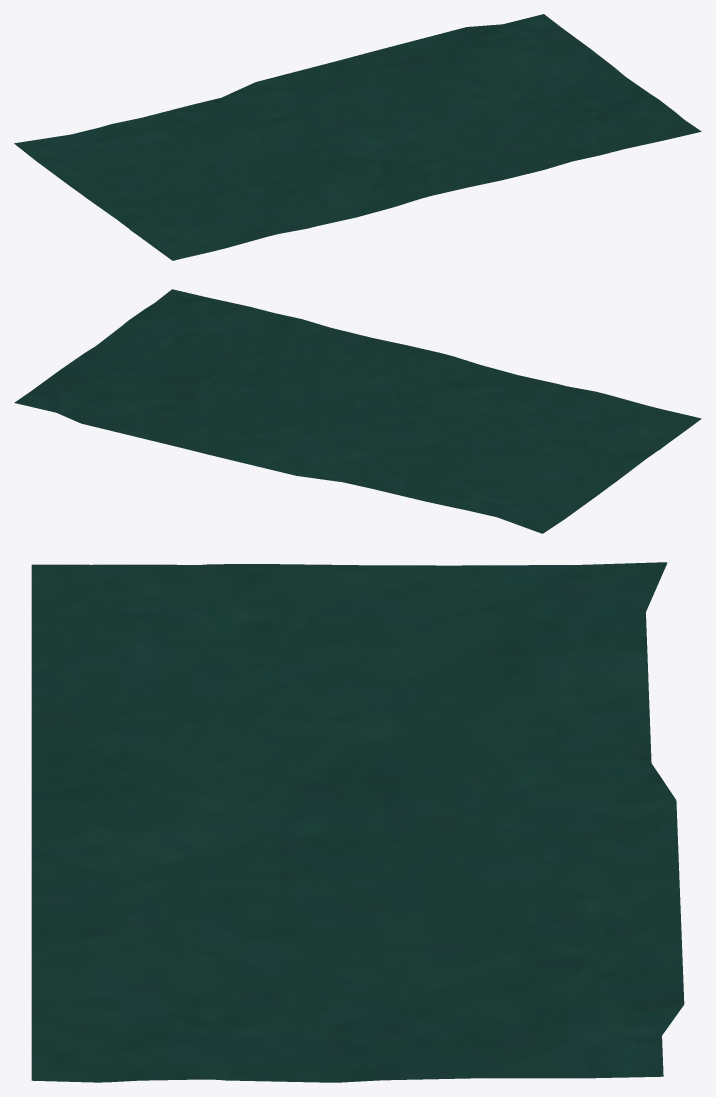
The picture shows the model from 3 angles, top to bottom: view 1: azimuth 30°, elevation 25°; view 2: azimuth 150°, elevation 25°; view 3: azimuth 270°, elevation 25°; orthographic projection. The views are drawn at different scales.
Bounding box in the file's own units: 52.22 × 0.5707 × 27.89.
Materials: 2 (2 with a texture image).
